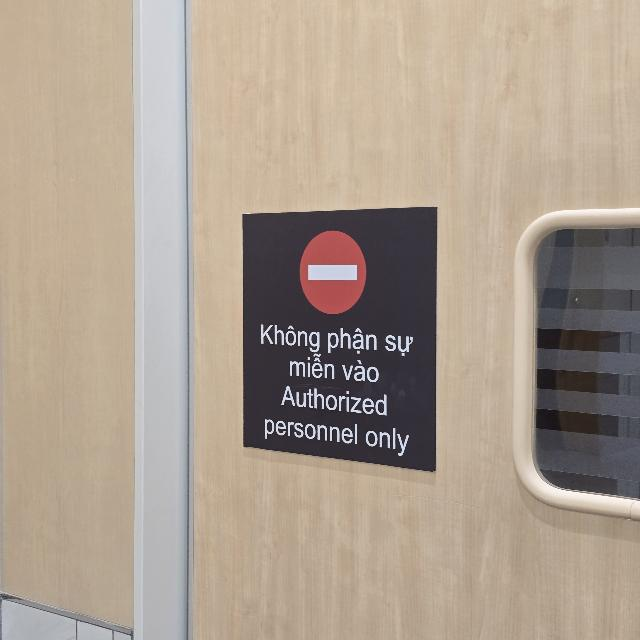no_entry: (243, 207, 437, 471)
